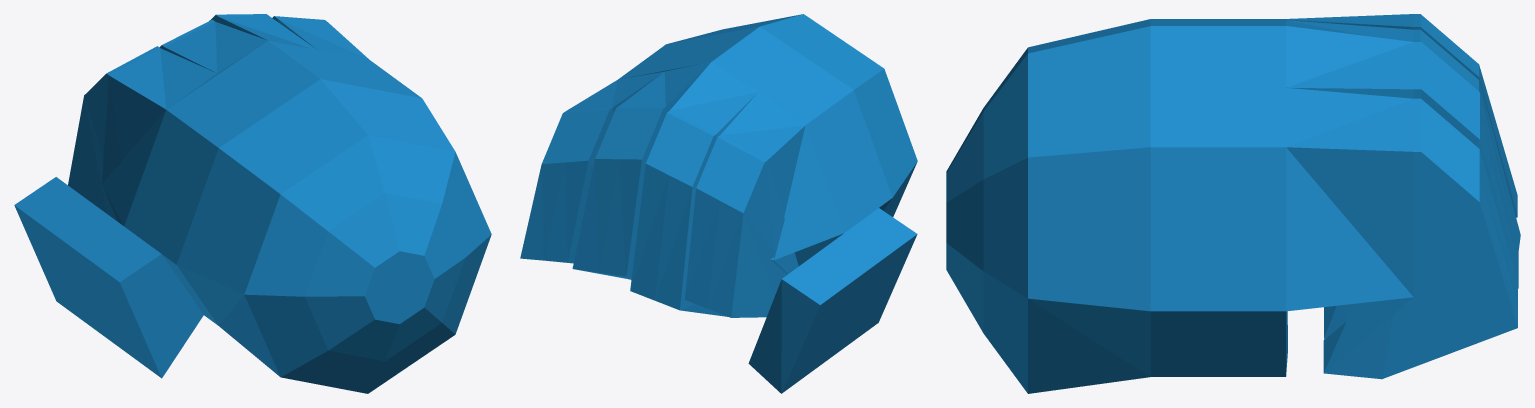
The model's file is bossHand2.obj.
3 renders of one model, left to right at view 1: azimuth 30°, elevation 25°; view 2: azimuth 150°, elevation 25°; view 3: azimuth 270°, elevation 25°, orthographic. The views are drawn at different scales.
Parts seen in each view (by area): view 1: 円; view 2: 円; view 3: 円.
Part boxes in pixels (bbox=[...]): 円: bbox=[14, 14, 491, 393]; 円: bbox=[520, 14, 917, 393]; 円: bbox=[946, 14, 1520, 393].
Bounding box in the file's own units: 2.62 × 2.13 × 3.06.
Materials: 1 (1 with a texture image).
